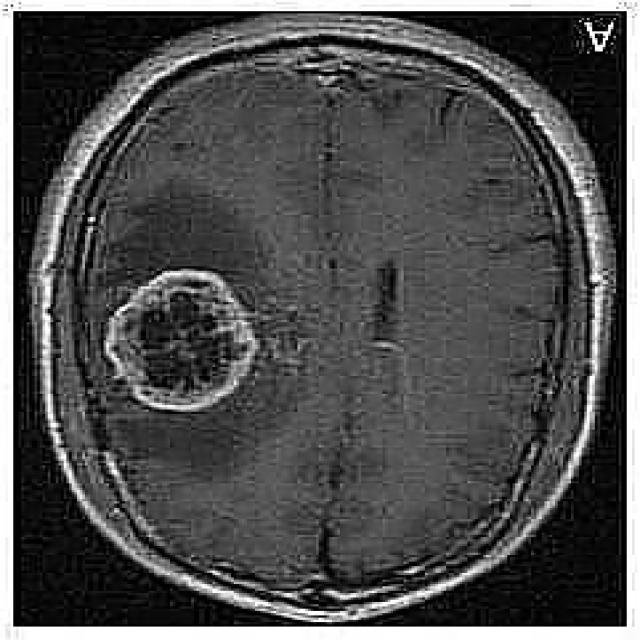Tumor-Cell: (91, 268, 256, 410)
